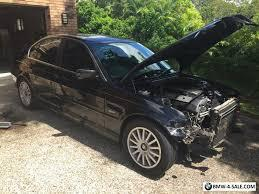Headlight-Damage: (163, 109, 210, 138)
